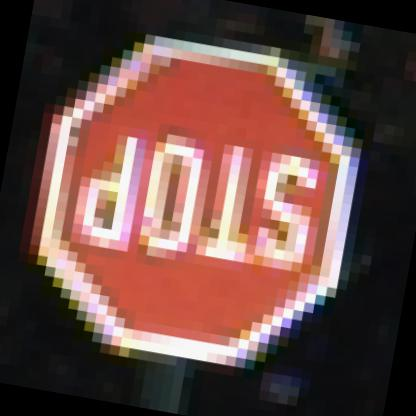stop: (0, 22, 396, 379)
